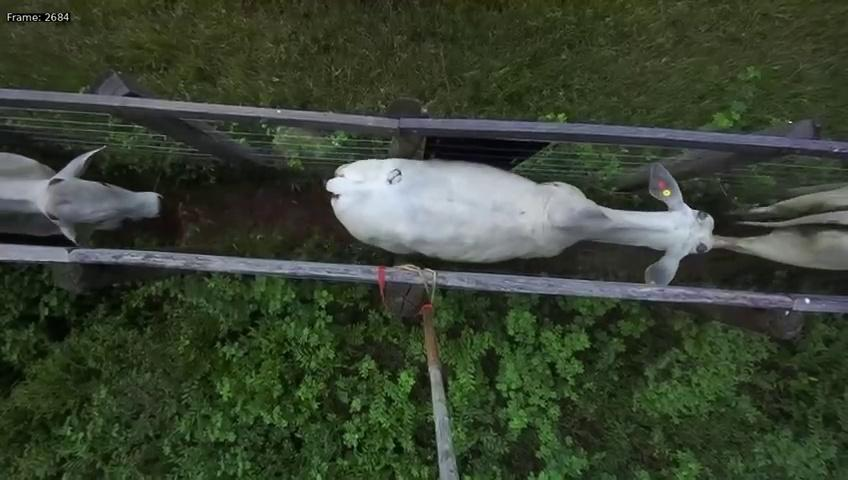cattle: (325, 151, 743, 286), (0, 140, 163, 249)
